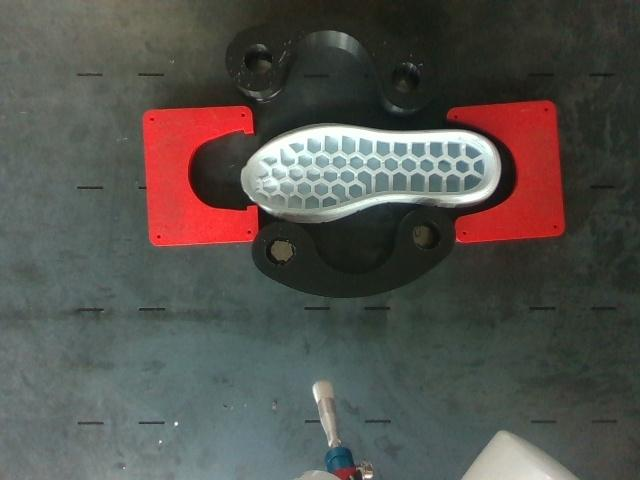shoes: (242, 127, 495, 214)
